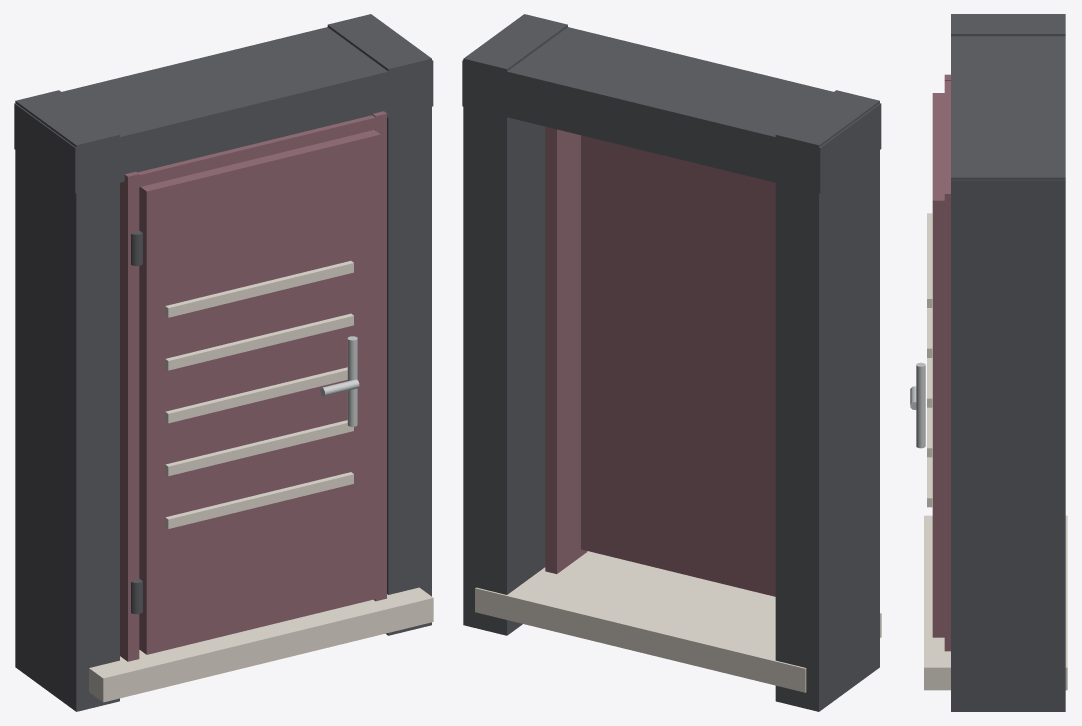
Rendered from portal-injury-law.glb.
3 views of the same model, side by side, from view 1: azimuth 30°, elevation 25°; view 2: azimuth 150°, elevation 25°; view 3: azimuth 270°, elevation 25° (orthographic). The views are drawn at different scales.
Visible parts, largest first — view 1: law_door, law_frame_left, law_frame_top, law_frame_right, law_threshold, law_reveal_-1.08, law_reveal_head, law_reveal_1.08, law_record_band_0.48, law_record_band_0.92, law_record_band_-0.84, law_record_band_-0.4 (+2 smaller); view 2: law_door, law_frame_left, law_frame_right, law_frame_top, law_threshold, law_reveal_1.08; view 3: law_frame_right, law_frame_top, law_door, law_reveal_1.08, law_threshold, law_frame_left, law_handle, law_reveal_head, law_record_band_0.92, law_record_band_-0.84, law_record_band_-0.4, law_record_band_0.48 (+1 smaller).
Part boxes in pixels (box(x1,y1,x2,y2)): law_door: box(139, 130, 380, 654); law_frame_left: box(15, 90, 119, 711); law_frame_top: box(14, 27, 433, 193); law_frame_right: box(327, 14, 431, 635); law_threshold: box(89, 587, 433, 702); law_reveal_-1.08: box(120, 171, 139, 661); law_reveal_head: box(120, 115, 386, 189); law_reveal_1.08: box(372, 111, 386, 601); law_record_band_0.48: box(165, 313, 353, 370); law_record_band_0.92: box(165, 261, 353, 317); law_record_band_-0.84: box(165, 472, 353, 528); law_record_band_-0.4: box(165, 420, 353, 476); law_door: box(581, 135, 775, 596); law_frame_left: box(775, 90, 879, 711); law_frame_right: box(463, 14, 567, 635); law_frame_top: box(462, 27, 881, 193); law_threshold: box(475, 551, 881, 692); law_reveal_1.08: box(545, 126, 587, 573); law_frame_right: box(951, 157, 1065, 711); law_frame_top: box(951, 36, 1065, 223); law_door: box(932, 93, 944, 637); law_reveal_1.08: box(944, 188, 950, 651); law_threshold: box(924, 515, 1067, 690); law_frame_left: box(951, 14, 1065, 36); law_handle: box(916, 362, 925, 448); law_reveal_head: box(944, 81, 950, 204); law_record_band_0.92: box(927, 213, 932, 307); law_record_band_-0.84: box(927, 457, 932, 507); law_record_band_-0.4: box(927, 407, 932, 457); law_record_band_0.48: box(927, 308, 932, 357).
Bounding box in the file's own units: 3.12 × 4.72 × 1.26.
